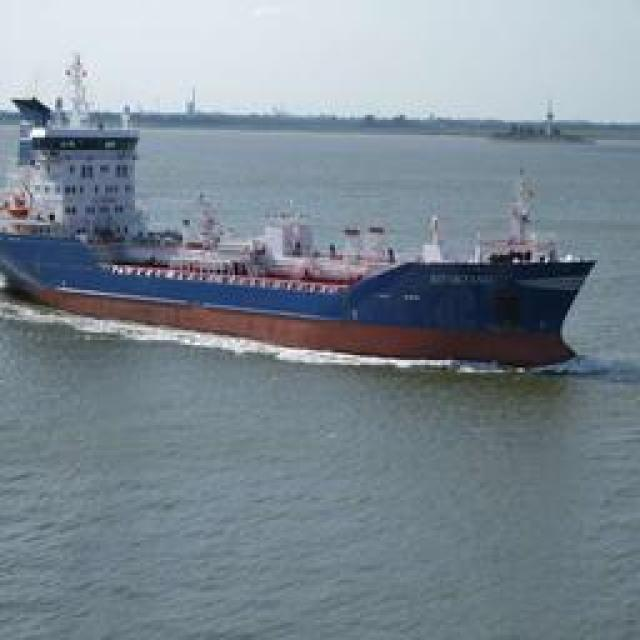Ship: (1, 188, 619, 379)
